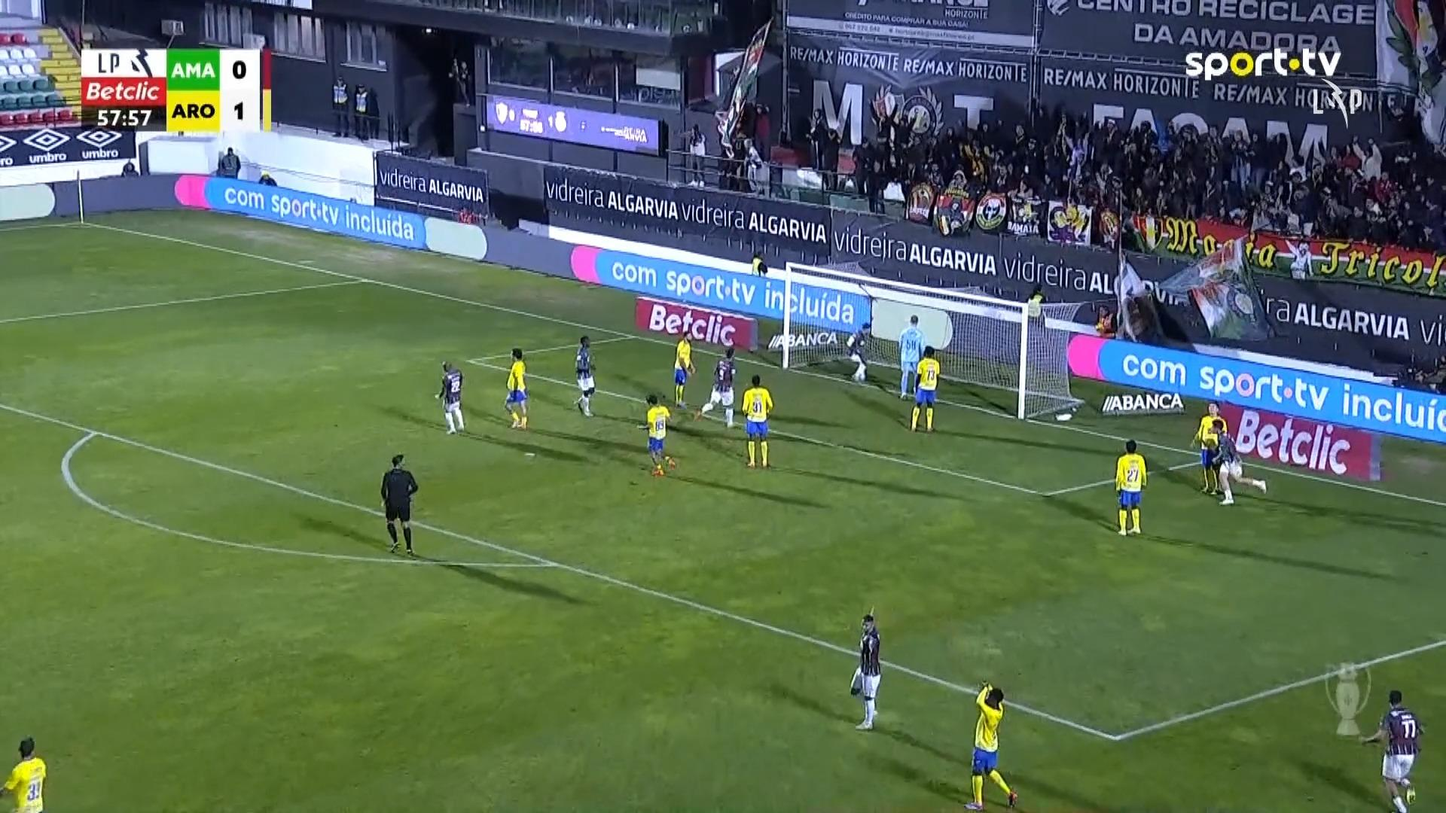goalkeeper: (897, 314, 925, 400)
player: (1358, 688, 1425, 811), (964, 680, 1018, 811), (1207, 419, 1268, 504), (849, 611, 882, 730), (0, 735, 47, 811), (694, 346, 737, 428), (1190, 400, 1227, 494), (636, 392, 676, 477), (1113, 438, 1147, 535), (740, 373, 774, 468), (908, 345, 940, 432), (433, 360, 465, 434), (502, 346, 529, 429), (572, 334, 596, 417), (672, 330, 696, 408), (845, 321, 872, 382)
referee: (379, 453, 418, 556)
